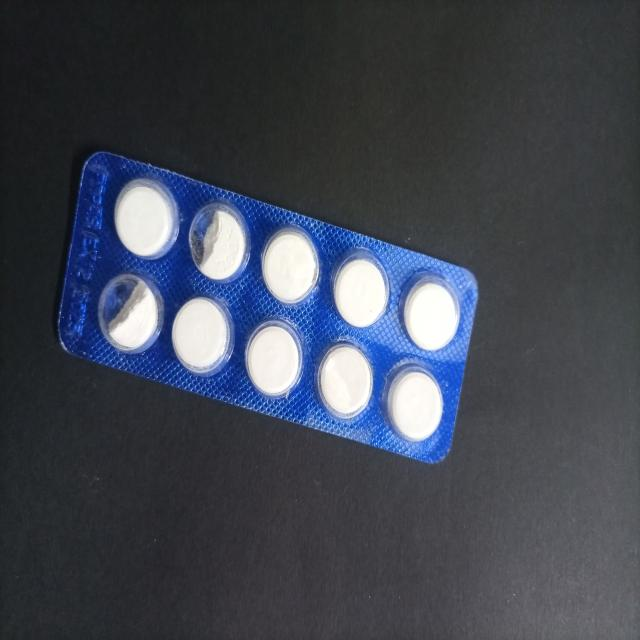defect: (96, 266, 166, 358), (187, 196, 254, 286)
